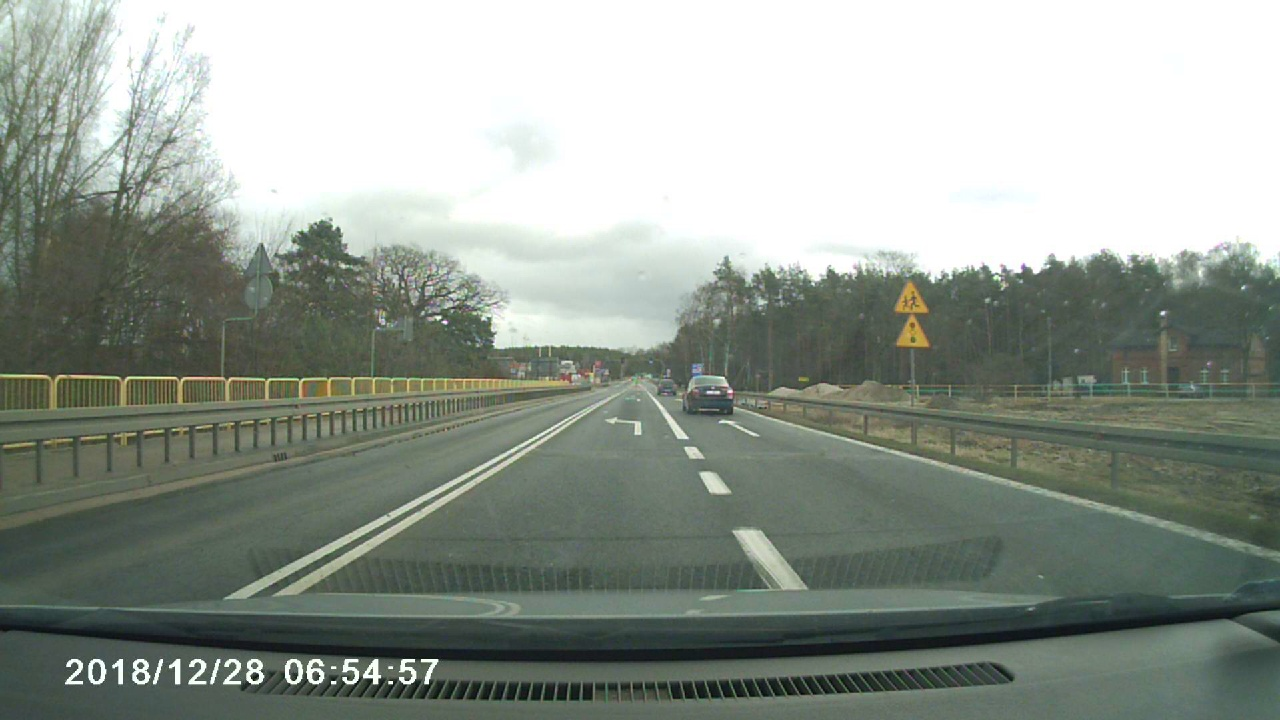A17: (891, 276, 935, 317)
A29: (891, 313, 933, 353)
